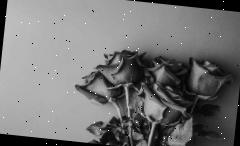organic: (68, 37, 240, 146), (80, 41, 229, 120), (172, 116, 202, 146)
